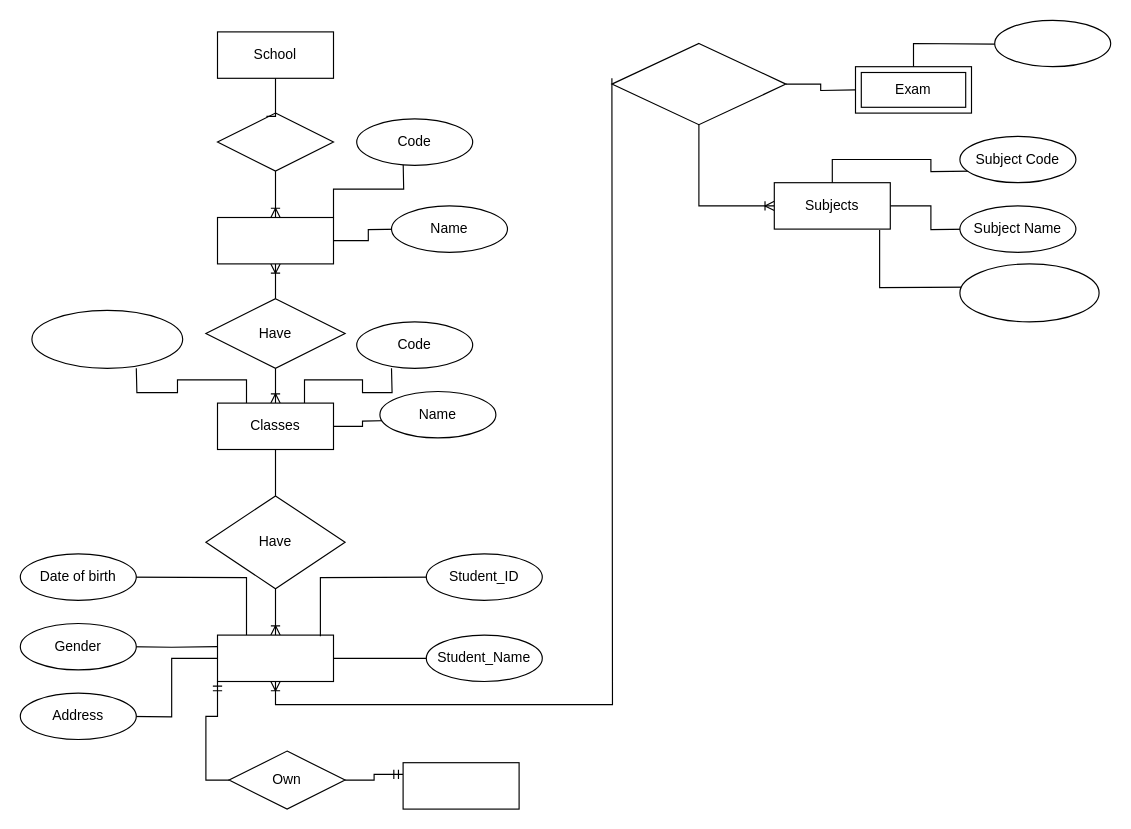
The diagram is 1131 pixels wide and 829 high, and some of its shapes have lost their labels. Here are the shapes that lost their labels. From the top down, the box of each, then its label:
(994, 19, 1111, 67): Exam Code
(611, 42, 786, 125): Study
(216, 112, 334, 171): Relationship
(216, 216, 334, 264): Faculties
(959, 263, 1099, 322): Number of Credits
(31, 309, 183, 368): Wholesale number
(216, 634, 334, 682): Students
(402, 762, 519, 809): Library Card
